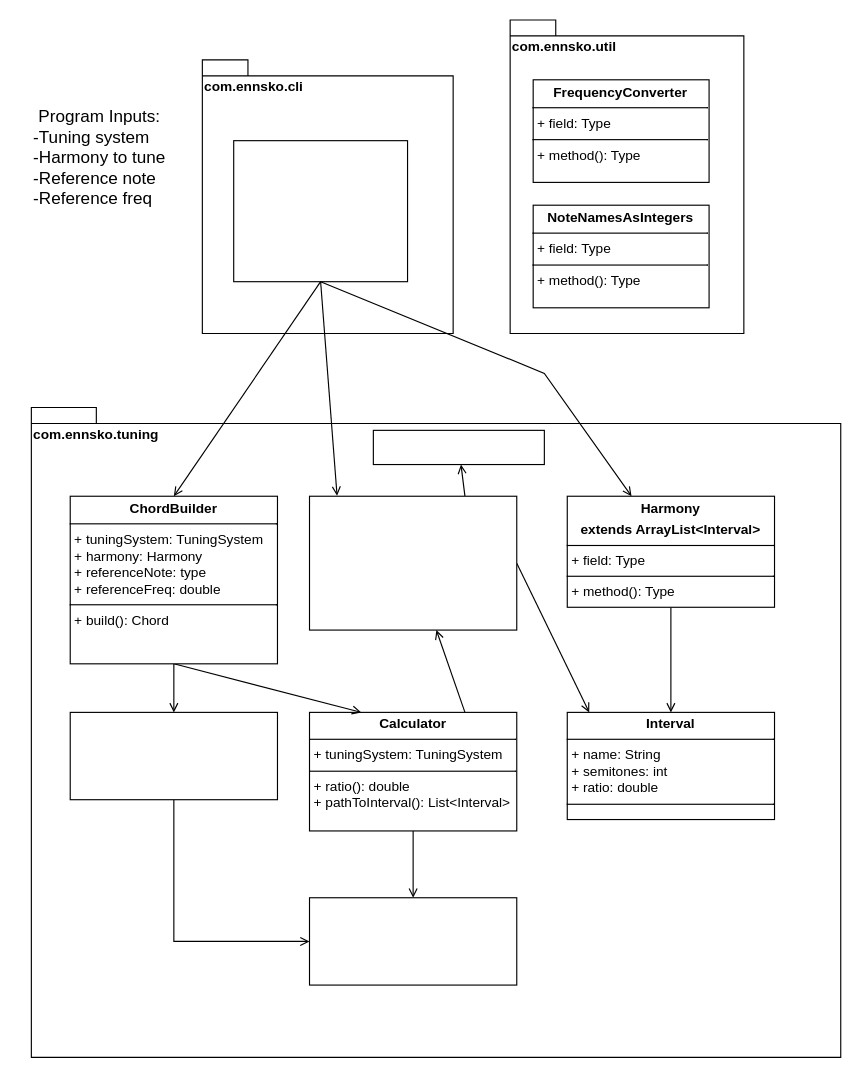
Some shapes in this 861 by 1077 pixel diagram are drawn without their labels. Here are the shapes that lost their labels. From the top down, the centre of each, then its label:
At [320,211]: "mainCLI + field: Type + method(): Type".
At [458,447]: "InvalidTuningSystemException".
At [412,562]: "TuningSystem extends ArrayList<Interval> + validate(): void + gcd() : void".
At [173,755]: "Chord + field: Type + method(): Type".
At [412,941]: "Note + field: Type + method(): Type".
